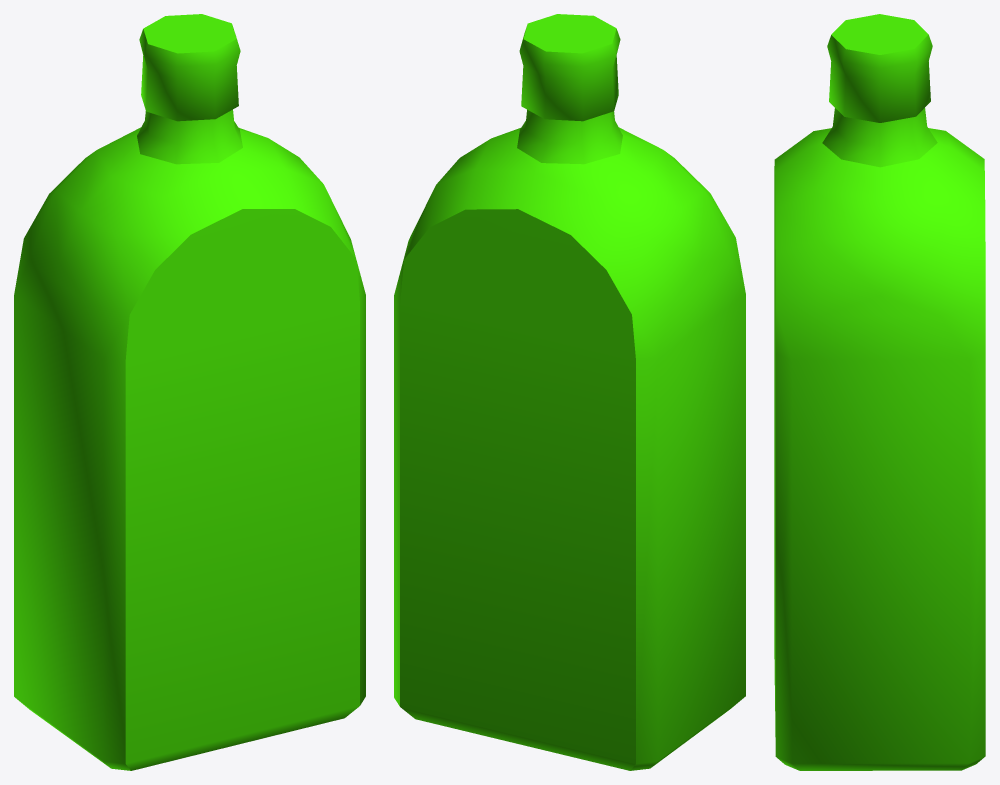
Rendered from 20_jager.gltf.
3 renders of one model, left to right at view 1: azimuth 30°, elevation 25°; view 2: azimuth 150°, elevation 25°; view 3: azimuth 270°, elevation 25°, orthographic.
Parts seen in each view (by area): view 1: Jagermeister_Atlas_0; view 2: Jagermeister_Atlas_0; view 3: Jagermeister_Atlas_0.
Part boxes in pixels (box(x1,y1,x2,y2)): Jagermeister_Atlas_0: box(14, 14, 365, 770); Jagermeister_Atlas_0: box(394, 14, 745, 770); Jagermeister_Atlas_0: box(774, 14, 985, 770).
Bounding box in the file's own units: 8.85 × 21.65 × 6.13.
1 material, 1 textured.
